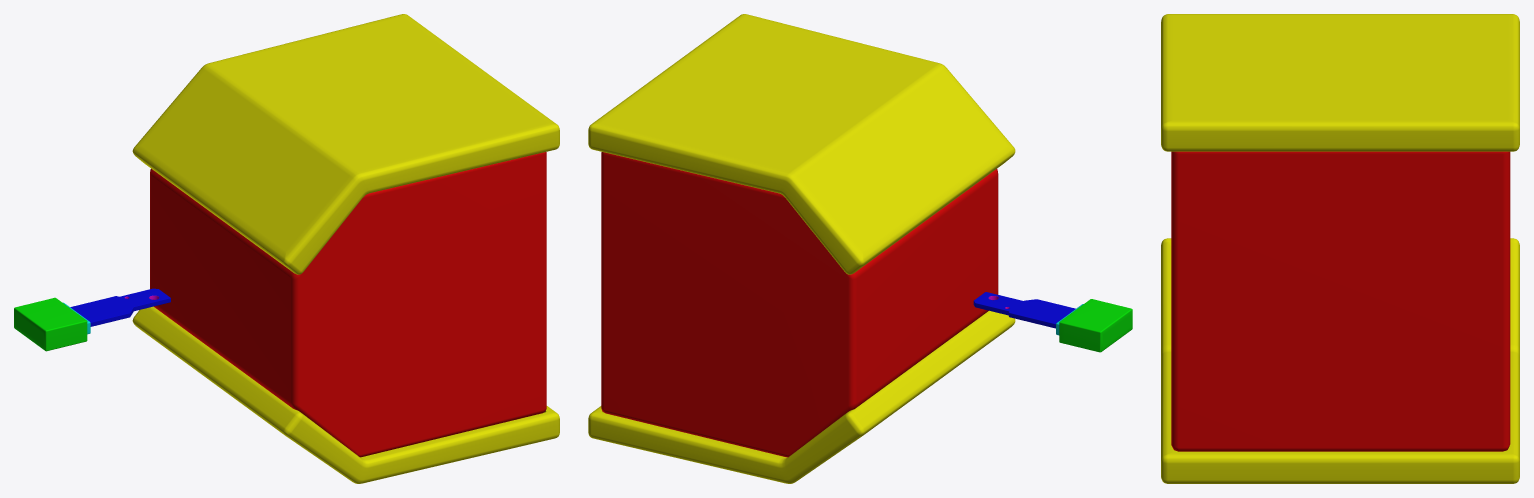
File: Data_Device.fbx
3 views of the same model, side by side, from view 1: azimuth 30°, elevation 25°; view 2: azimuth 150°, elevation 25°; view 3: azimuth 270°, elevation 25° (orthographic). The views are drawn at different scales.
Visible parts, largest first — view 1: Data_Reader, Data_Stick; view 2: Data_Reader, Data_Stick; view 3: Data_Reader.
Boxes of the visible parts, x1=… form: Data_Reader: x1=132, y1=14, x2=559, y2=483; Data_Stick: x1=14, y1=288, x2=170, y2=351; Data_Reader: x1=588, y1=14, x2=1015, y2=483; Data_Stick: x1=973, y1=292, x2=1132, y2=352; Data_Reader: x1=1161, y1=14, x2=1519, y2=483.
Bounding box in the file's own units: 134 × 88.6 × 79.74.
